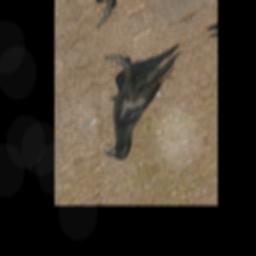Crow: (85, 20, 198, 169)
